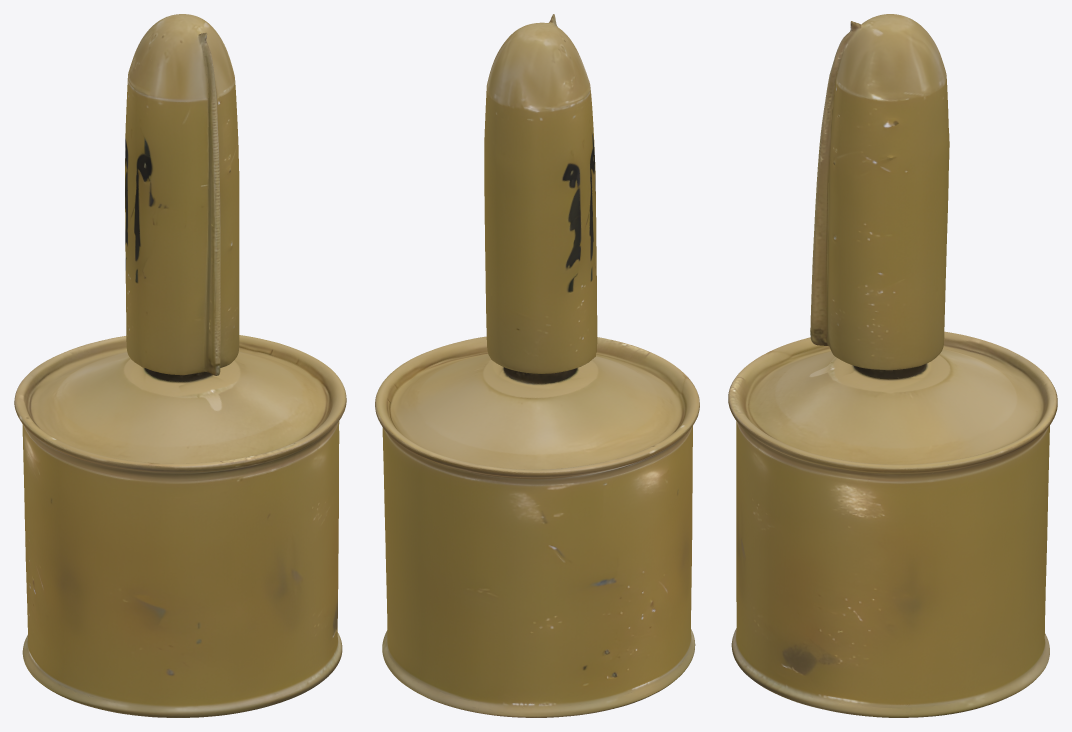
File: rgd41.glb
3 renders of one model, left to right at view 1: azimuth 30°, elevation 25°; view 2: azimuth 150°, elevation 25°; view 3: azimuth 270°, elevation 25°, orthographic. The views are drawn at different scales.
Visible parts, largest first — view 1: model; view 2: model; view 3: model.
Part boxes in pixels (<box>): model: <box>14,14,346,717</box>; model: <box>375,14,699,717</box>; model: <box>728,14,1057,717</box>.
Bounding box in the file's own units: 0.8989 × 1.9 × 0.8915.
Materials: 1 (1 with a texture image).
